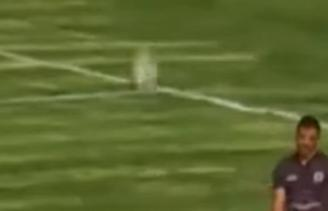ball: (122, 44, 167, 98)
